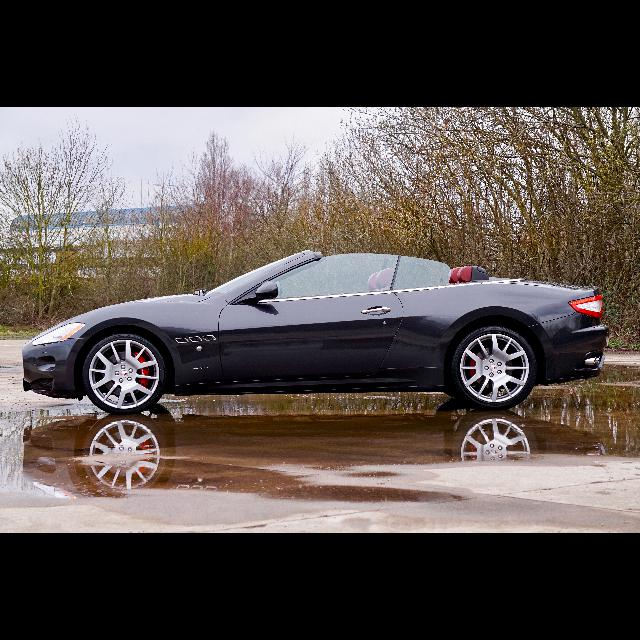cars: (15, 234, 612, 424)
